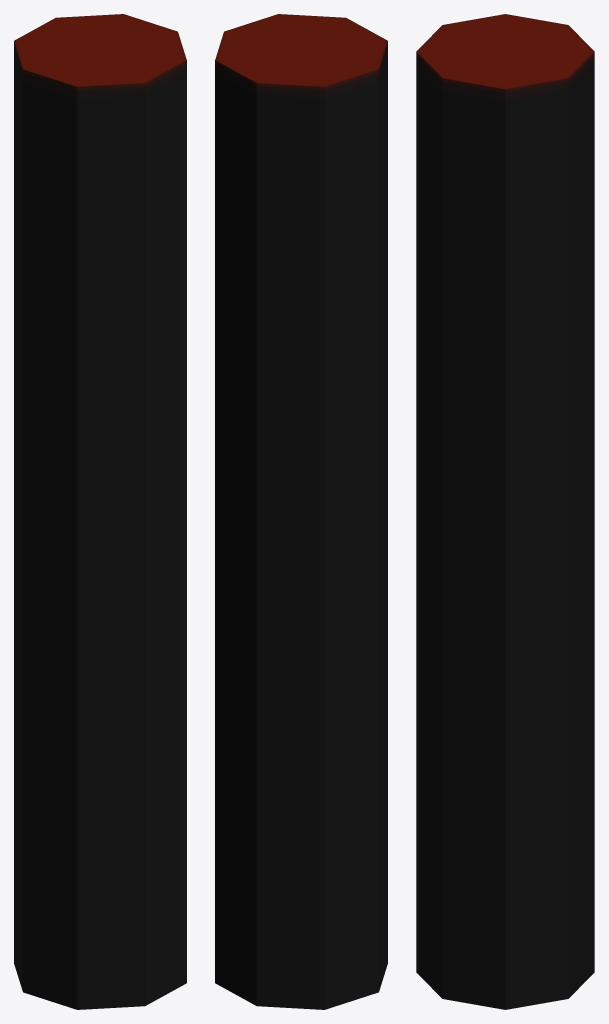
Rendered from stamp.fbx.
The picture shows the model from 3 angles, left to right: view 1: azimuth 30°, elevation 25°; view 2: azimuth 150°, elevation 25°; view 3: azimuth 270°, elevation 25°; orthographic projection.
Visible parts, largest first — view 1: stamp; view 2: stamp; view 3: stamp.
Boxes of the visible parts, box(x1,y1,x2,y2) form: stamp: box(14, 14, 186, 1009); stamp: box(215, 14, 387, 1009); stamp: box(416, 14, 594, 1009).
Size of the model in its own units: 0.0908 by 0.5167 by 0.0908.
